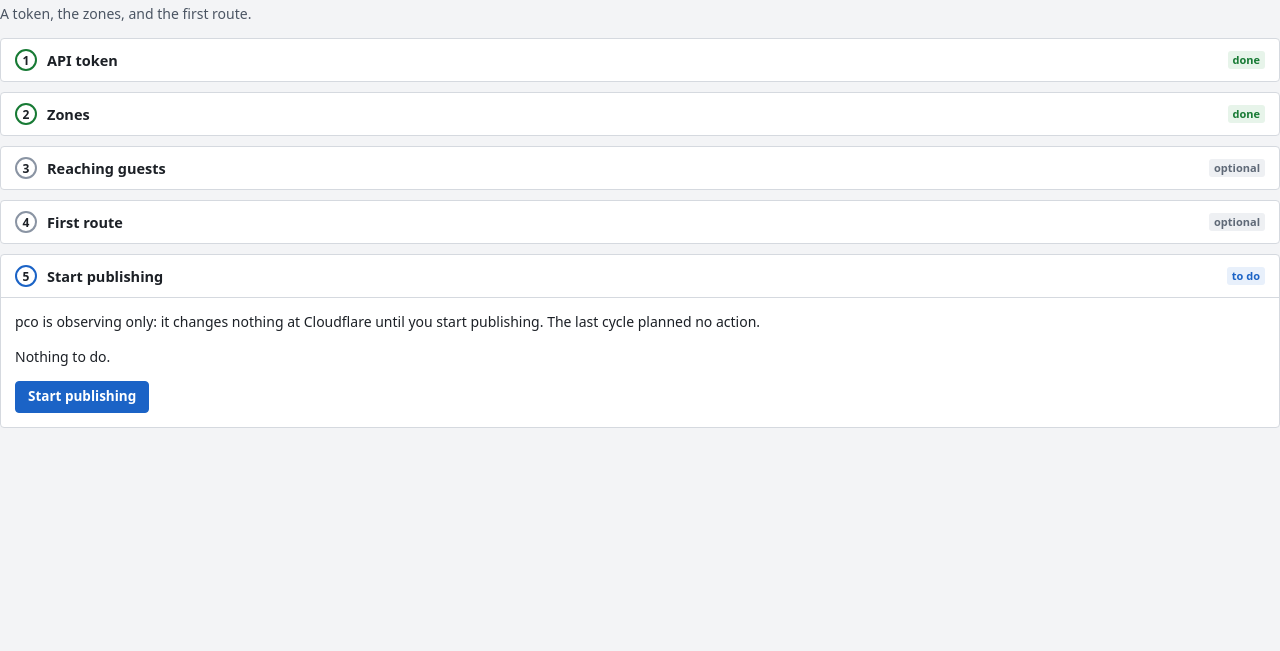
Test: step 4, the first route › builds the block for the Notes from a name, the zone of step 2 and a port, with a copy button, and the tag to set
Click the button "4 First route optional": click(32, 232) [1,201,1279,243]
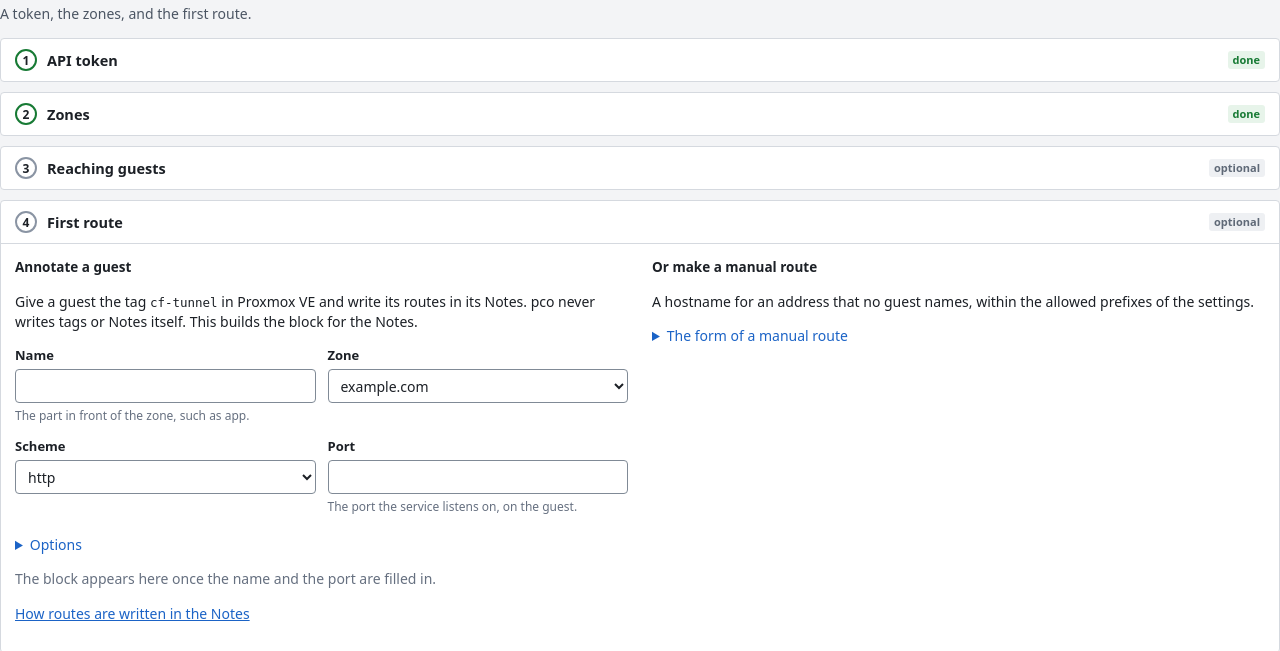
In the field labelled "Name": (165, 386) [15,369,316,403], type "App"
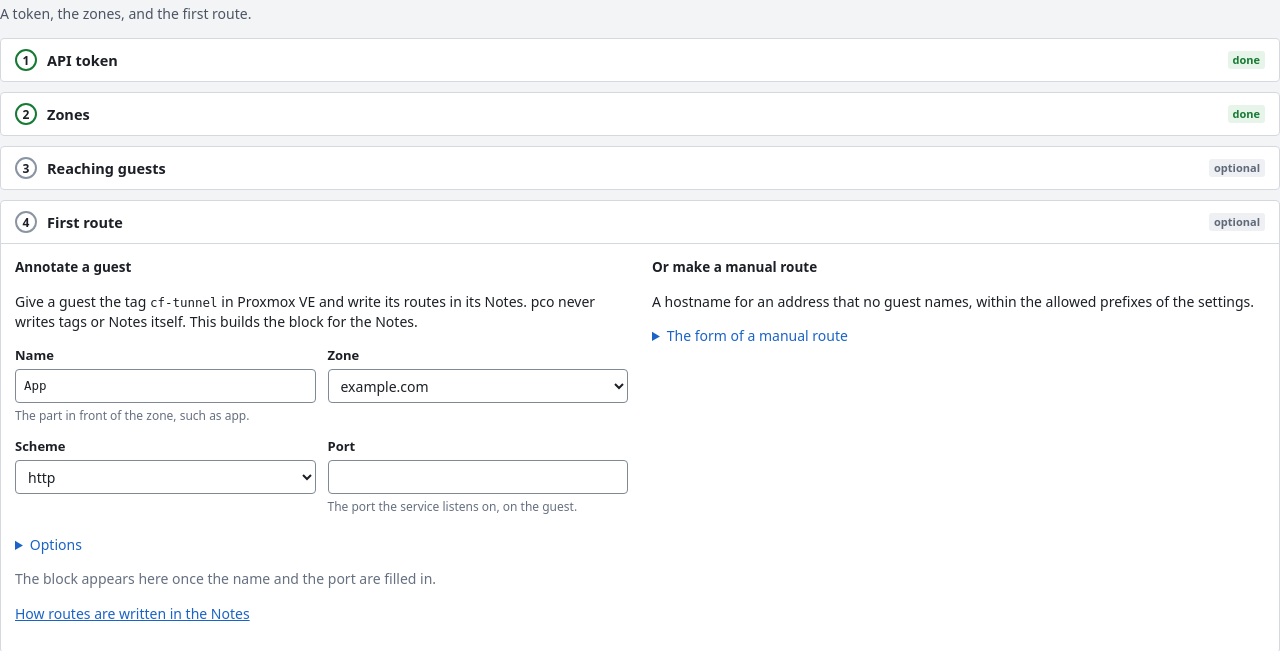
In the field labelled "Port": (478, 476) [328,460,628,494], type "3000"
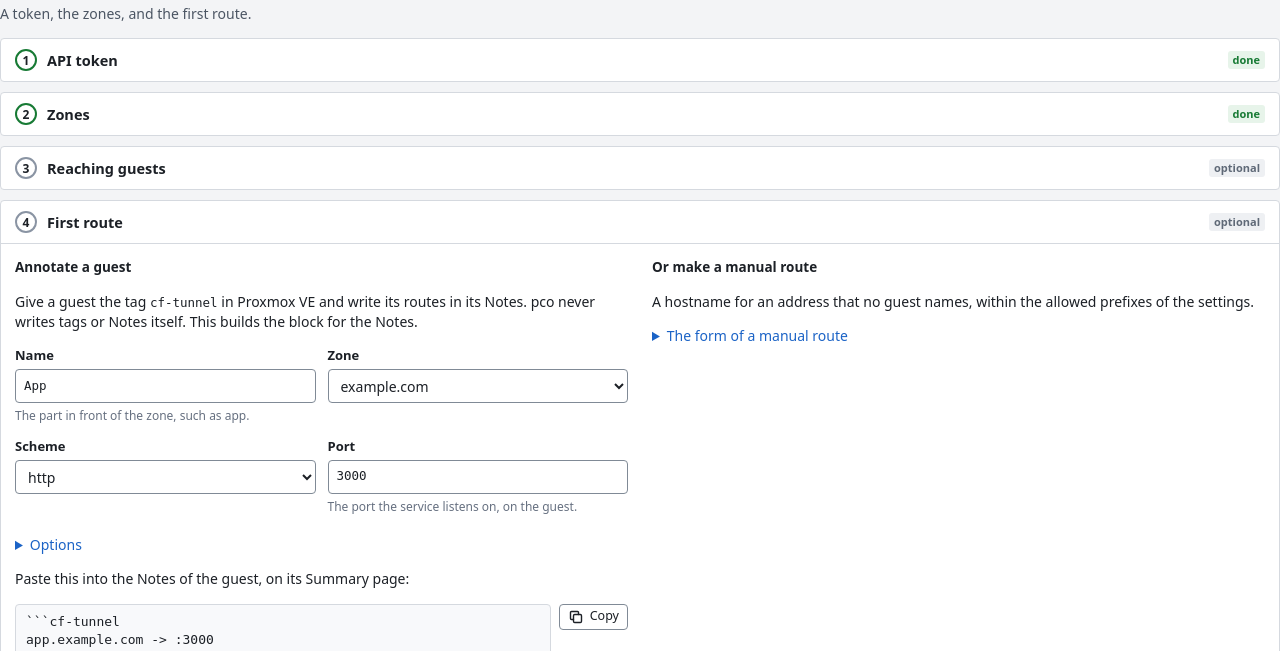
Now the text "Give a guest the tag" shows "cf-tunnel", box [150,295,218,310]
Click the button "Copy": click(593, 616) [559,604,628,630]
(page scrolled)
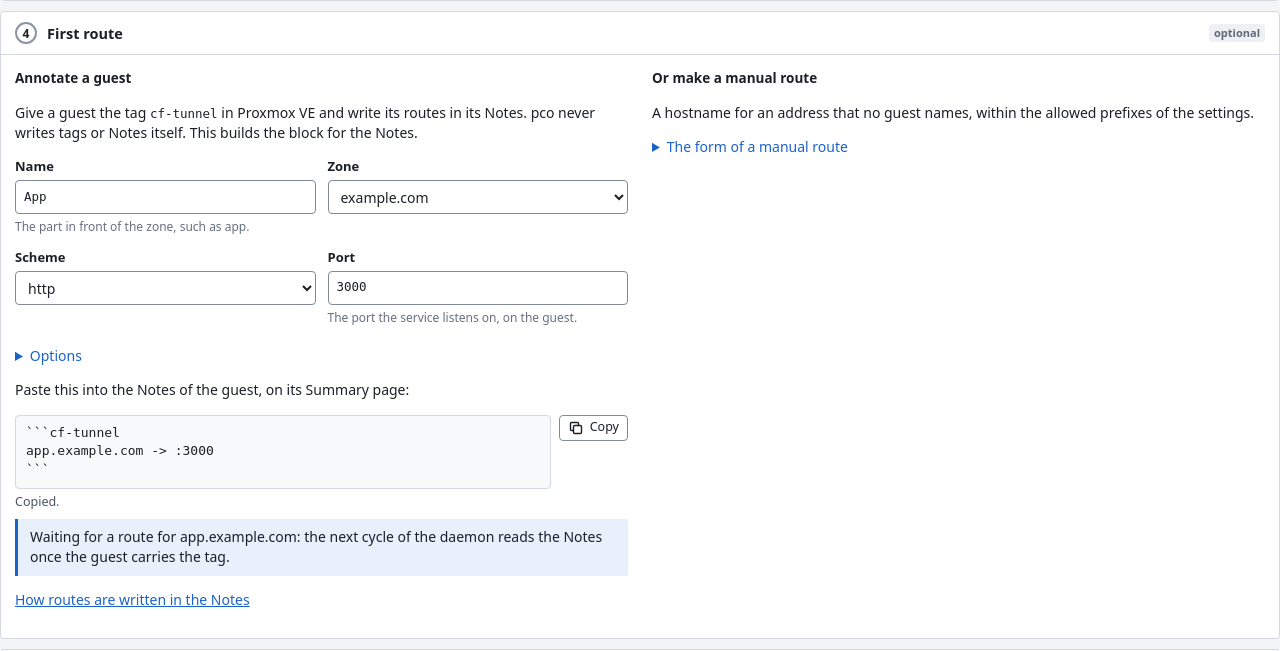
Now the text "Copied." is shown, box [15,493,60,510]
